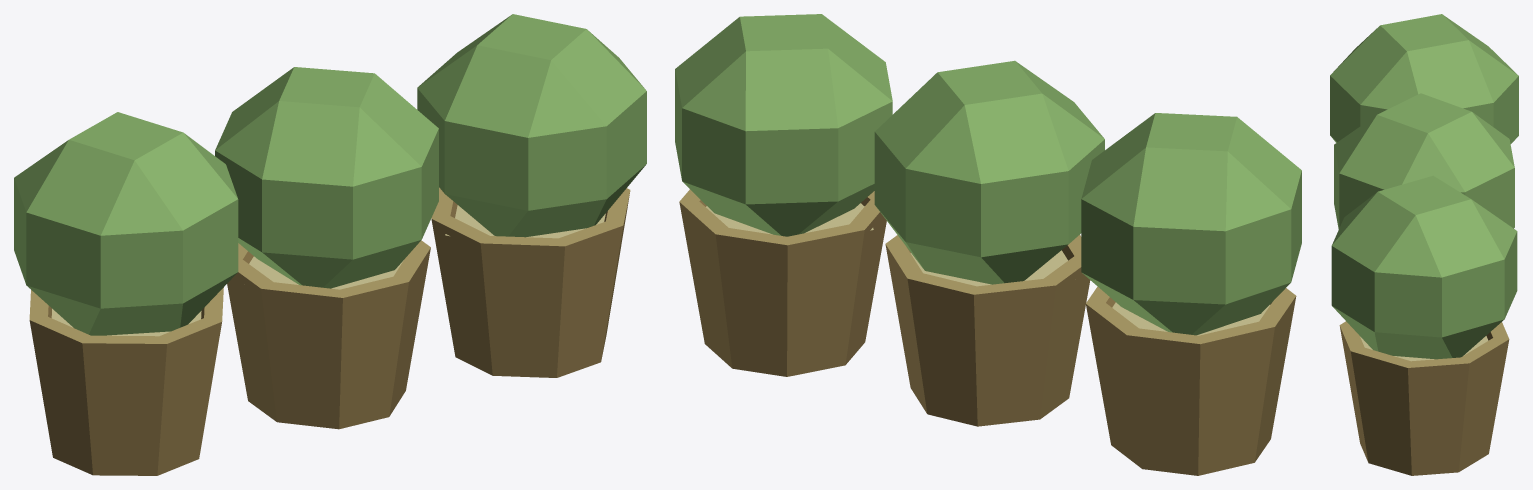
Rendered from vegetation_012.fbx.
3 renders of one model, left to right at view 1: azimuth 30°, elevation 25°; view 2: azimuth 150°, elevation 25°; view 3: azimuth 270°, elevation 25°, orthographic. The views are drawn at different scales.
Parts seen in each view (by area): view 1: vegetation_012; view 2: vegetation_012; view 3: vegetation_012.
Part boxes in pixels (x1,y1,x2,y2): vegetation_012: [14, 14, 646, 475]; vegetation_012: [675, 14, 1301, 475]; vegetation_012: [1330, 14, 1518, 475].
Size of the model in its own units: 157 by 77.03 by 51.95.
